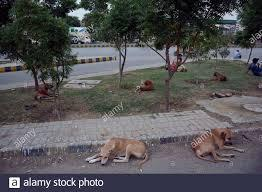normal_dogs: (86, 132, 152, 174), (189, 120, 248, 166), (32, 70, 57, 108), (137, 72, 154, 100), (210, 66, 228, 87)
